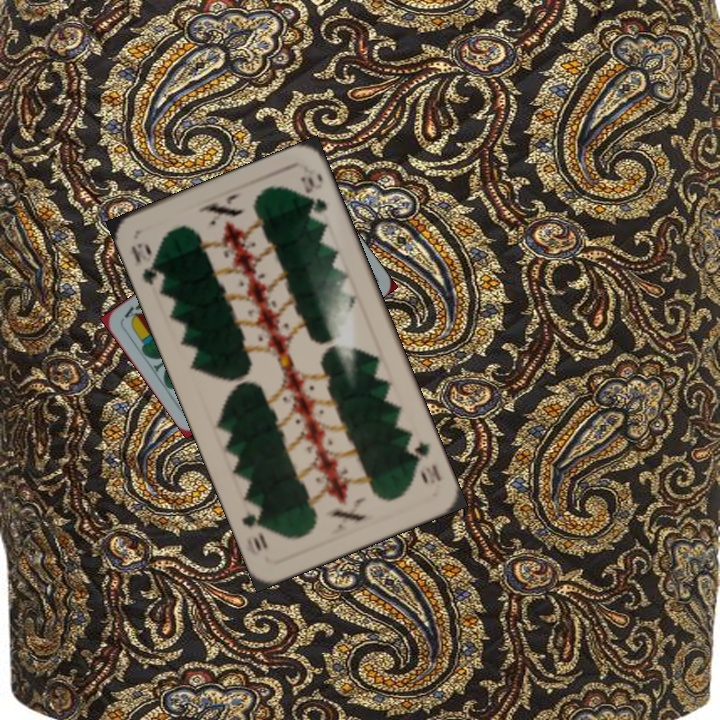G10: (127, 239, 163, 288), (408, 437, 444, 484)
